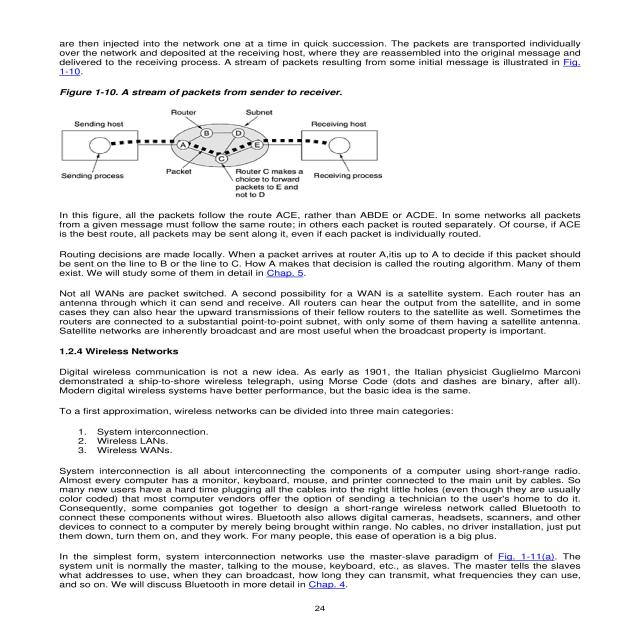diagram: (60, 84, 457, 202), (59, 84, 439, 204)
